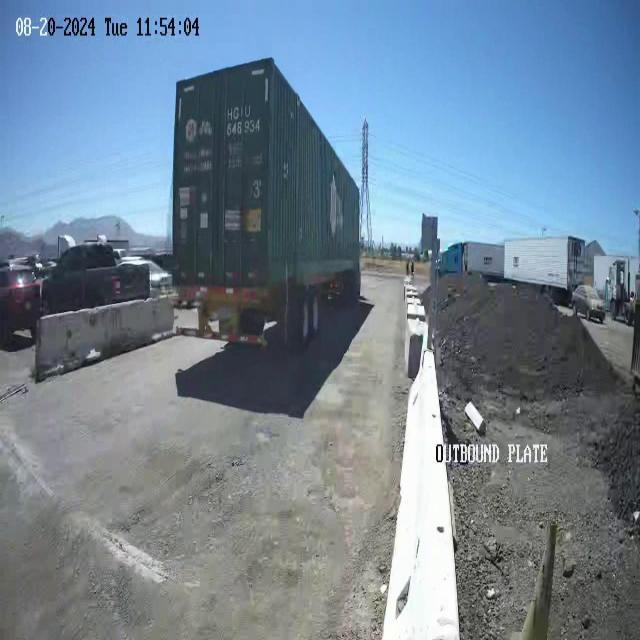CONTAINER: (174, 63, 360, 288)
